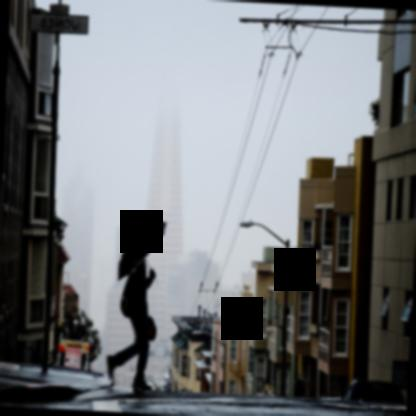backpack: (119, 273, 134, 318)
